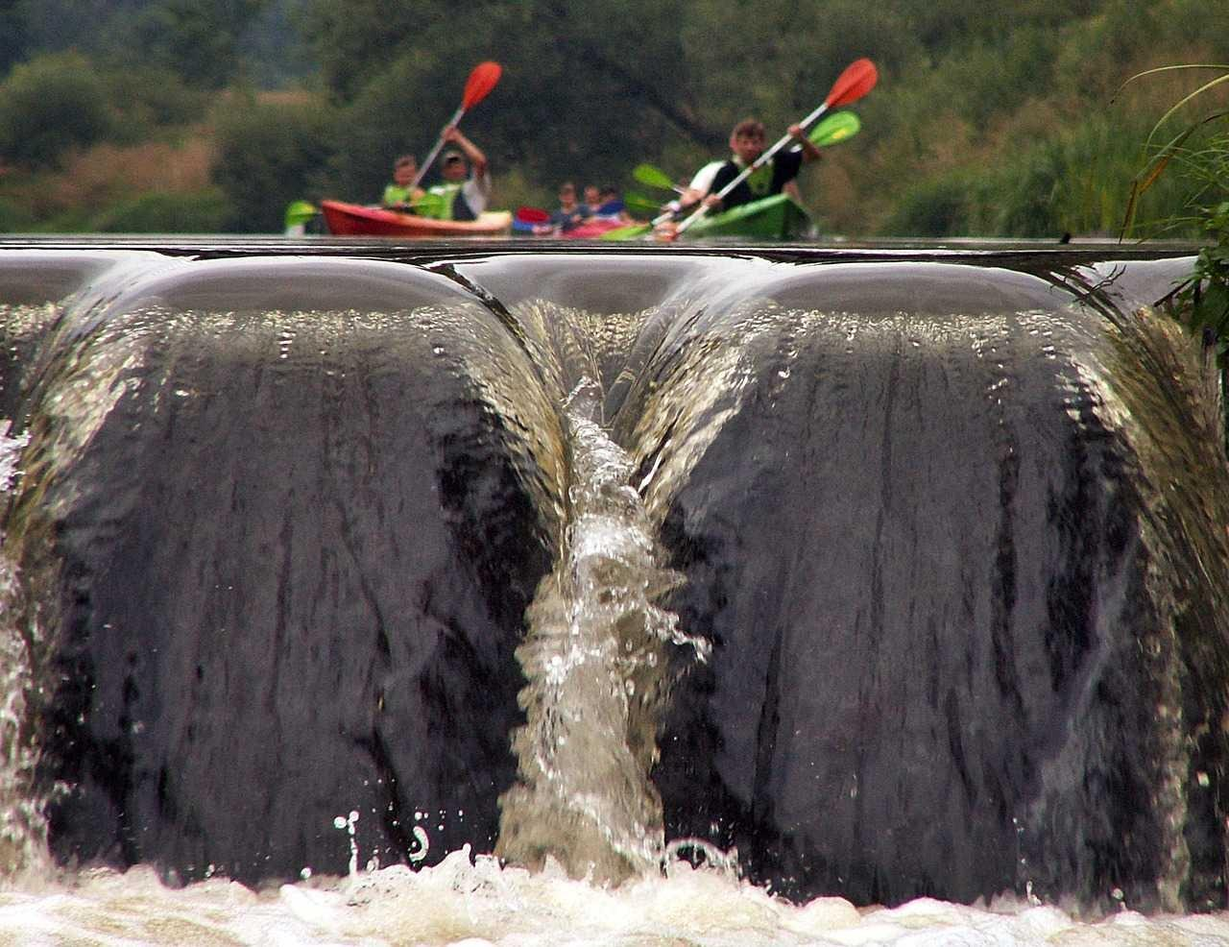kayak: (317, 202, 534, 238)
